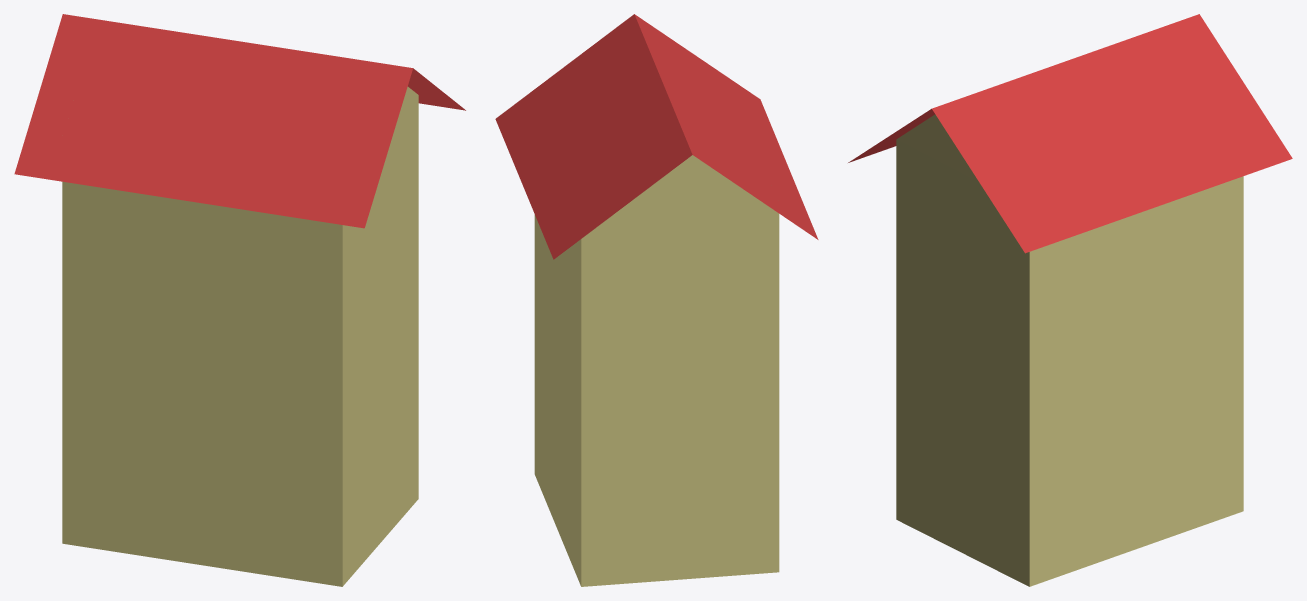
3 renders of one model, left to right at view 1: azimuth 30°, elevation 25°; view 2: azimuth 150°, elevation 25°; view 3: azimuth 270°, elevation 25°, orthographic. The views are drawn at different scales.
Bounding box in the file's own units: 6.24 × 6.37 × 7.12.
